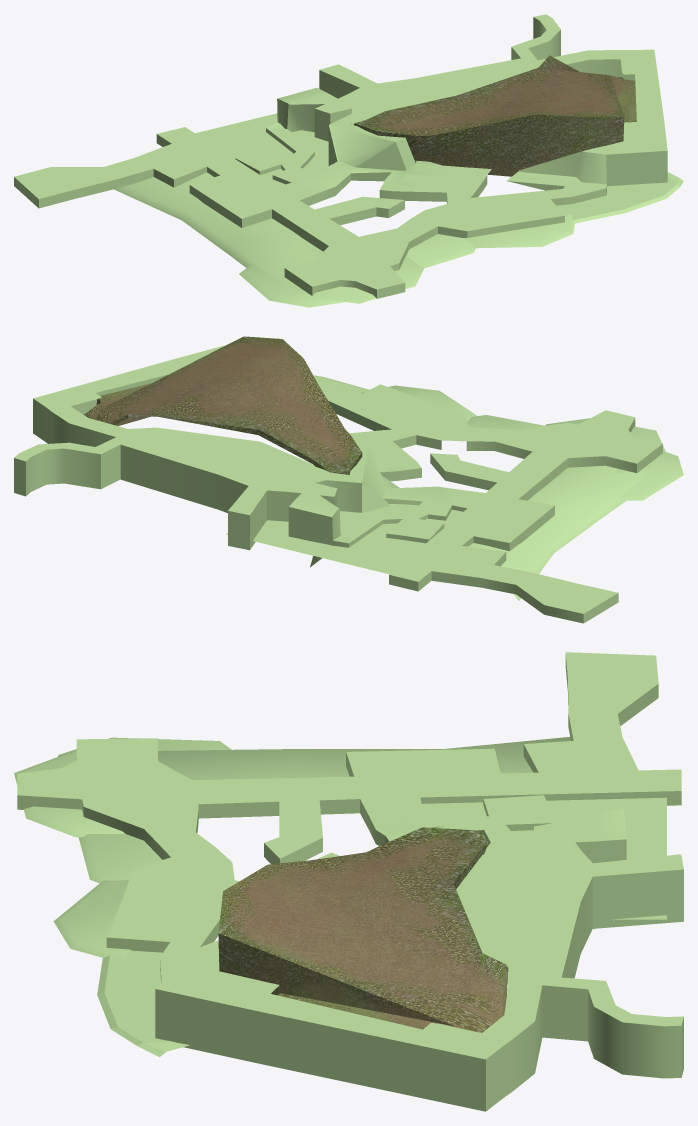
The model's file is FarolTerra2.fbx.
3 renders of one model, top to bottom at view 1: azimuth 30°, elevation 25°; view 2: azimuth 150°, elevation 25°; view 3: azimuth 270°, elevation 25°, orthographic. The views are drawn at different scales.
Visible parts, largest first — view 1: Terreno1, Montanha, TerrenoExtra, TerrenoExtra2, Areia, Areia3, Areia4, Areia2, Areia5; view 2: Terreno1, Montanha, TerrenoExtra, TerrenoExtra2, Areia4, Areia3, Areia2, Areia, Areia5; view 3: Terreno1, Montanha, TerrenoExtra, Areia, TerrenoExtra2, Areia3, Areia2, Areia5, Areia4.
Boxes of the visible parts, left/top/right/bottom form: Terreno1: left=14, top=14, right=667, bottom=298; Montanha: left=353, top=55, right=636, bottom=176; TerrenoExtra: left=114, top=172, right=322, bottom=286; TerrenoExtra2: left=195, top=113, right=368, bottom=186; Areia: left=556, top=172, right=683, bottom=223; Areia3: left=462, top=214, right=574, bottom=248; Areia4: left=239, top=265, right=345, bottom=307; Areia2: left=406, top=234, right=475, bottom=268; Areia5: left=312, top=256, right=424, bottom=303; Terreno1: left=14, top=345, right=662, bottom=623; Montanha: left=84, top=336, right=362, bottom=474; TerrenoExtra: left=468, top=465, right=647, bottom=600; TerrenoExtra2: left=226, top=504, right=462, bottom=574; Areia4: left=614, top=451, right=683, bottom=500; Areia3: left=360, top=385, right=477, bottom=421; Areia2: left=467, top=415, right=544, bottom=429; Areia: left=313, top=375, right=369, bottom=398; Areia5: left=545, top=418, right=665, bottom=451; Terreno1: left=17, top=652, right=683, bottom=1111; Montanha: left=218, top=827, right=508, bottom=1032; TerrenoExtra: left=158, top=737, right=570, bottom=780; Areia: left=97, top=950, right=189, bottom=1057; TerrenoExtra2: left=421, top=797, right=666, bottom=919; Areia3: left=53, top=880, right=130, bottom=959; Areia2: left=78, top=834, right=161, bottom=883; Areia5: left=14, top=751, right=125, bottom=837; Areia4: left=58, top=737, right=231, bottom=756.
Size of the model in its own units: 30485 by 19387 by 4786.
